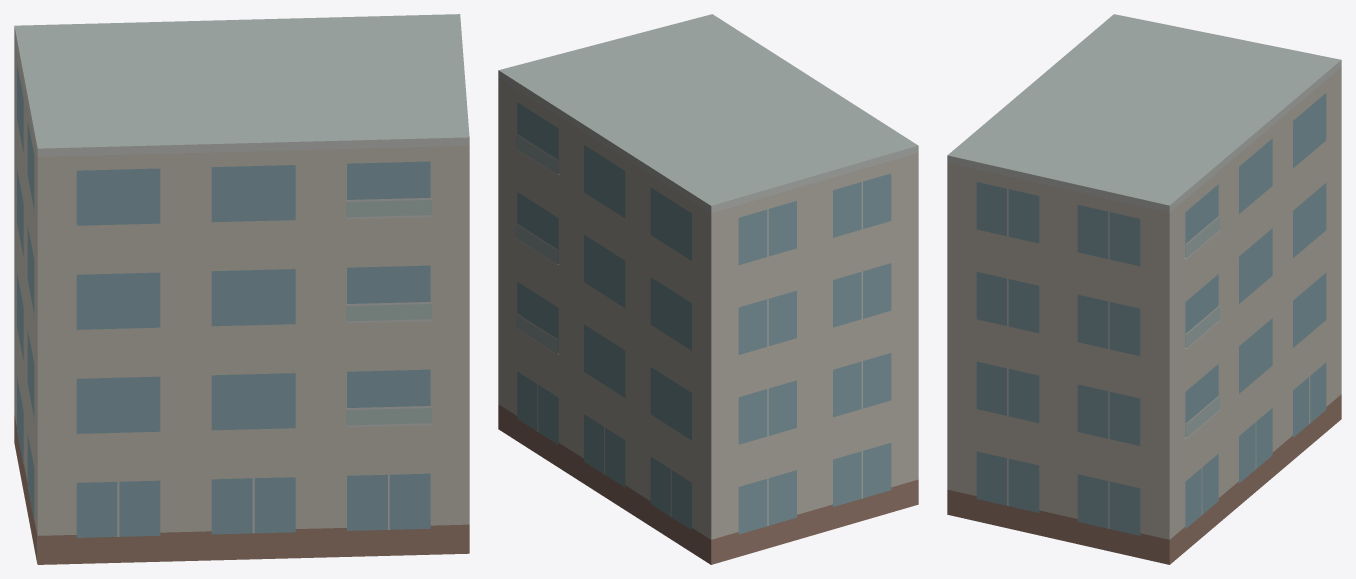
The model's file is survey-upis-32805054.glb.
The picture shows the model from 3 angles, left to right: view 1: azimuth 30°, elevation 25°; view 2: azimuth 150°, elevation 25°; view 3: azimuth 270°, elevation 25°; orthographic projection. The views are drawn at different scales.
Parts seen in each view (by area): view 1: survey-upis-32805054.tmp; view 2: survey-upis-32805054.tmp; view 3: survey-upis-32805054.tmp.
Boxes of the visible parts, bbox=[...] form: survey-upis-32805054.tmp: bbox=[14, 14, 469, 564]; survey-upis-32805054.tmp: bbox=[498, 14, 918, 564]; survey-upis-32805054.tmp: bbox=[947, 14, 1341, 564].
Bounding box in the file's own units: 13.96 × 12.2 × 12.14.
